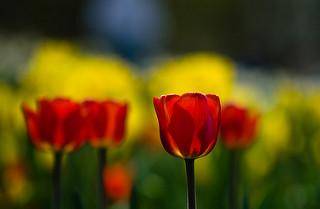tulip: (155, 91, 222, 159)
